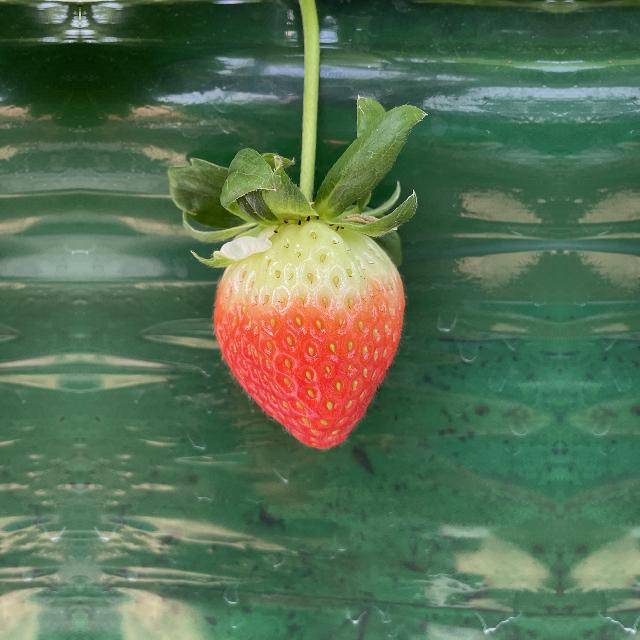Health_100: (210, 214, 408, 454)
